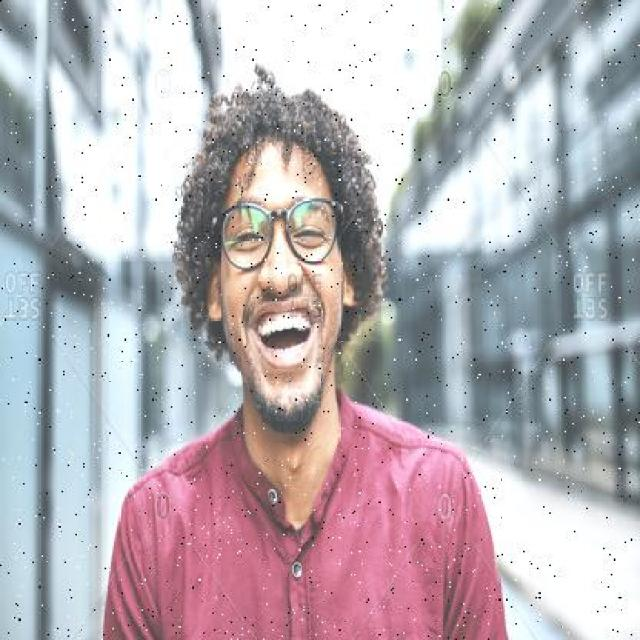glasses: (208, 190, 353, 272)
